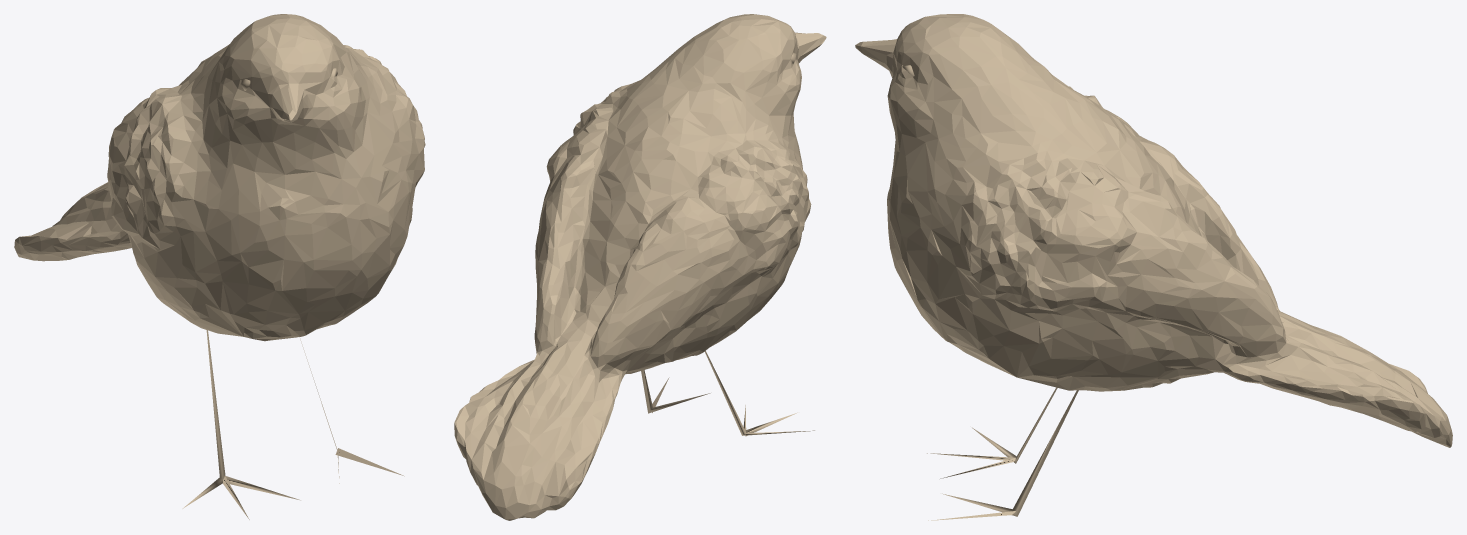
File: qingluan.glb
3 views of the same model, side by side, from view 1: azimuth 30°, elevation 25°; view 2: azimuth 150°, elevation 25°; view 3: azimuth 270°, elevation 25° (orthographic). The views are drawn at different scales.
Visible parts, largest first — view 1: Line006; view 2: Line006; view 3: Line006.
Part boxes in pixels (<box>): Line006: <box>14,14,425,519</box>; Line006: <box>454,14,826,520</box>; Line006: <box>855,14,1452,520</box>.
Bounding box in the file's own units: 77.79 × 125 × 149.
